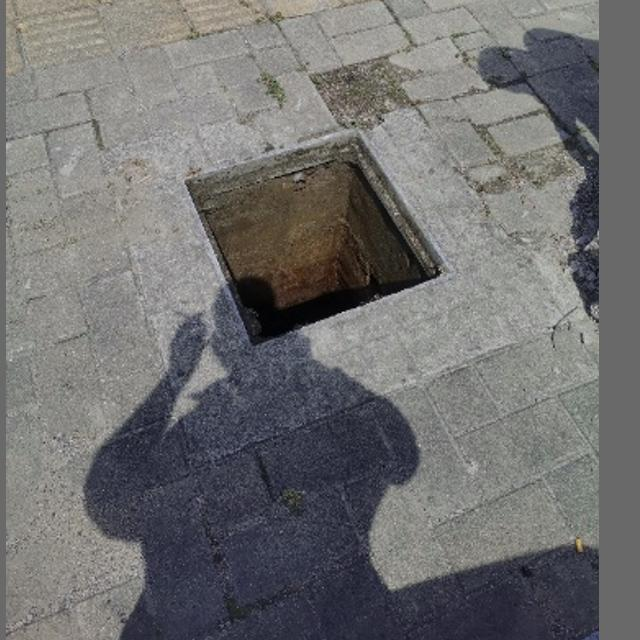lose: (182, 122, 462, 354)
